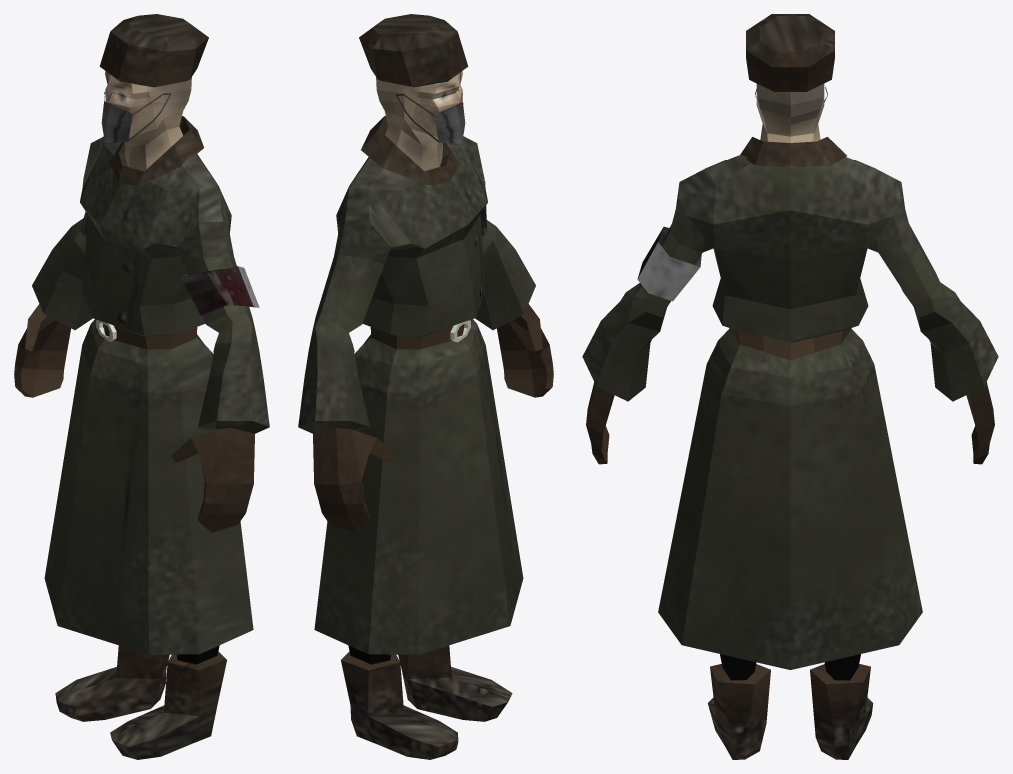
Rendered from Solider2.fbx.
The picture shows the model from 3 angles, left to right: view 1: azimuth 30°, elevation 25°; view 2: azimuth 150°, elevation 25°; view 3: azimuth 270°, elevation 25°; orthographic projection. The views are drawn at different scales.
Visible parts, largest first — view 1: CH-M-SIMP.001; view 2: CH-M-SIMP.001; view 3: CH-M-SIMP.001.
Boxes of the visible parts, <box> form: CH-M-SIMP.001: <box>14,14,269,759</box>; CH-M-SIMP.001: <box>298,14,553,759</box>; CH-M-SIMP.001: <box>582,14,998,759</box>.
Bounding box in the file's own units: 91.21 × 377 × 197.
2 materials, 2 textured.
